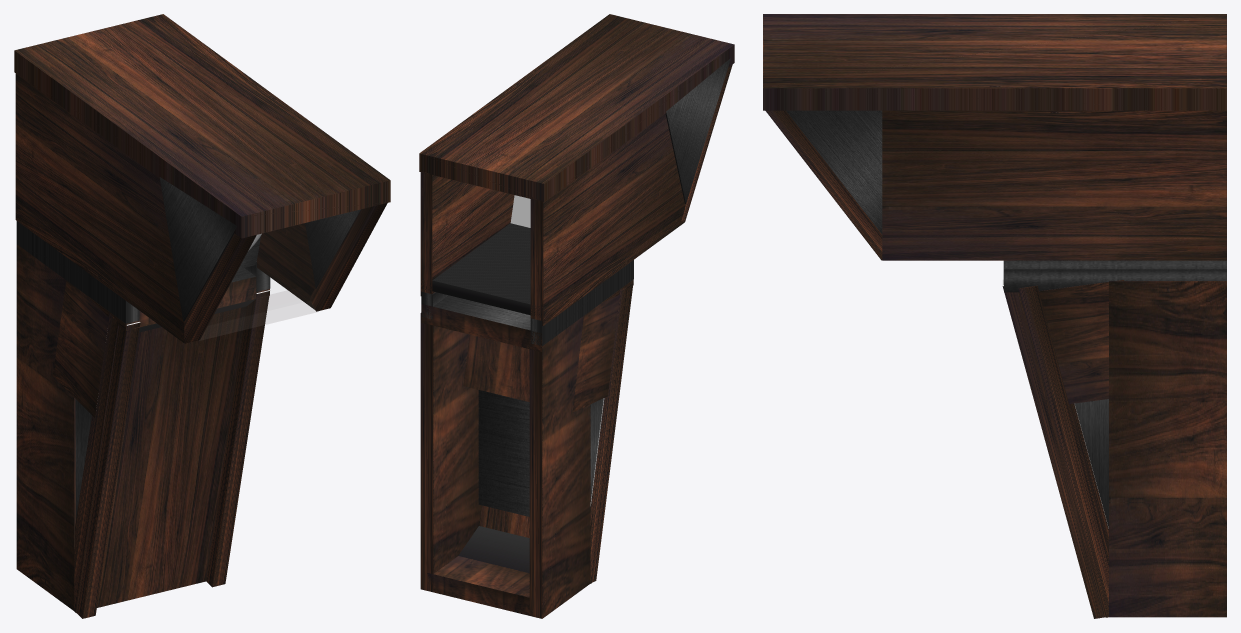
The picture shows the model from 3 angles, left to right: view 1: azimuth 30°, elevation 25°; view 2: azimuth 150°, elevation 25°; view 3: azimuth 270°, elevation 25°; orthographic projection. The views are drawn at different scales.
Visible parts, largest first — view 1: Object_6, Object_8; view 2: Object_6, Object_8, Object_7, Object_5; view 3: Object_6, Object_8.
Part boxes in pixels (bbox=[...]): Object_6: bbox=[14, 14, 390, 618]; Object_8: bbox=[16, 177, 360, 520]; Object_6: bbox=[419, 14, 734, 618]; Object_8: bbox=[421, 58, 730, 516]; Object_7: bbox=[421, 223, 541, 573]; Object_5: bbox=[510, 195, 604, 505]; Object_6: bbox=[763, 14, 1226, 618]; Object_8: bbox=[786, 110, 1226, 527].
Bounding box in the file's own units: 186 × 622 × 491.
Materials: 9 (7 with a texture image).
